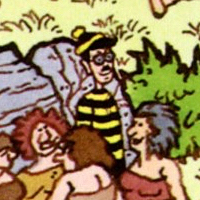odlaw: (87, 31, 113, 84)
